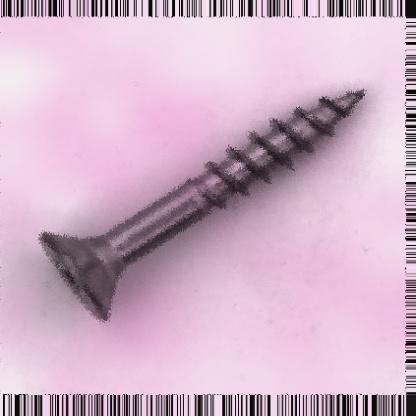metal: (38, 87, 367, 322)
